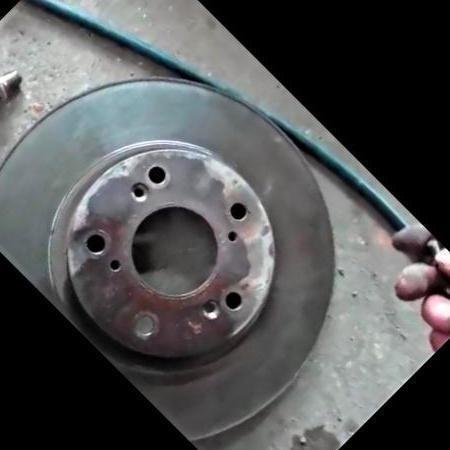hole: (80, 230, 109, 259), (129, 311, 158, 340), (218, 288, 246, 316), (196, 296, 224, 324), (142, 162, 170, 189), (126, 179, 153, 206), (224, 200, 250, 226), (105, 257, 122, 274), (223, 229, 239, 246)
